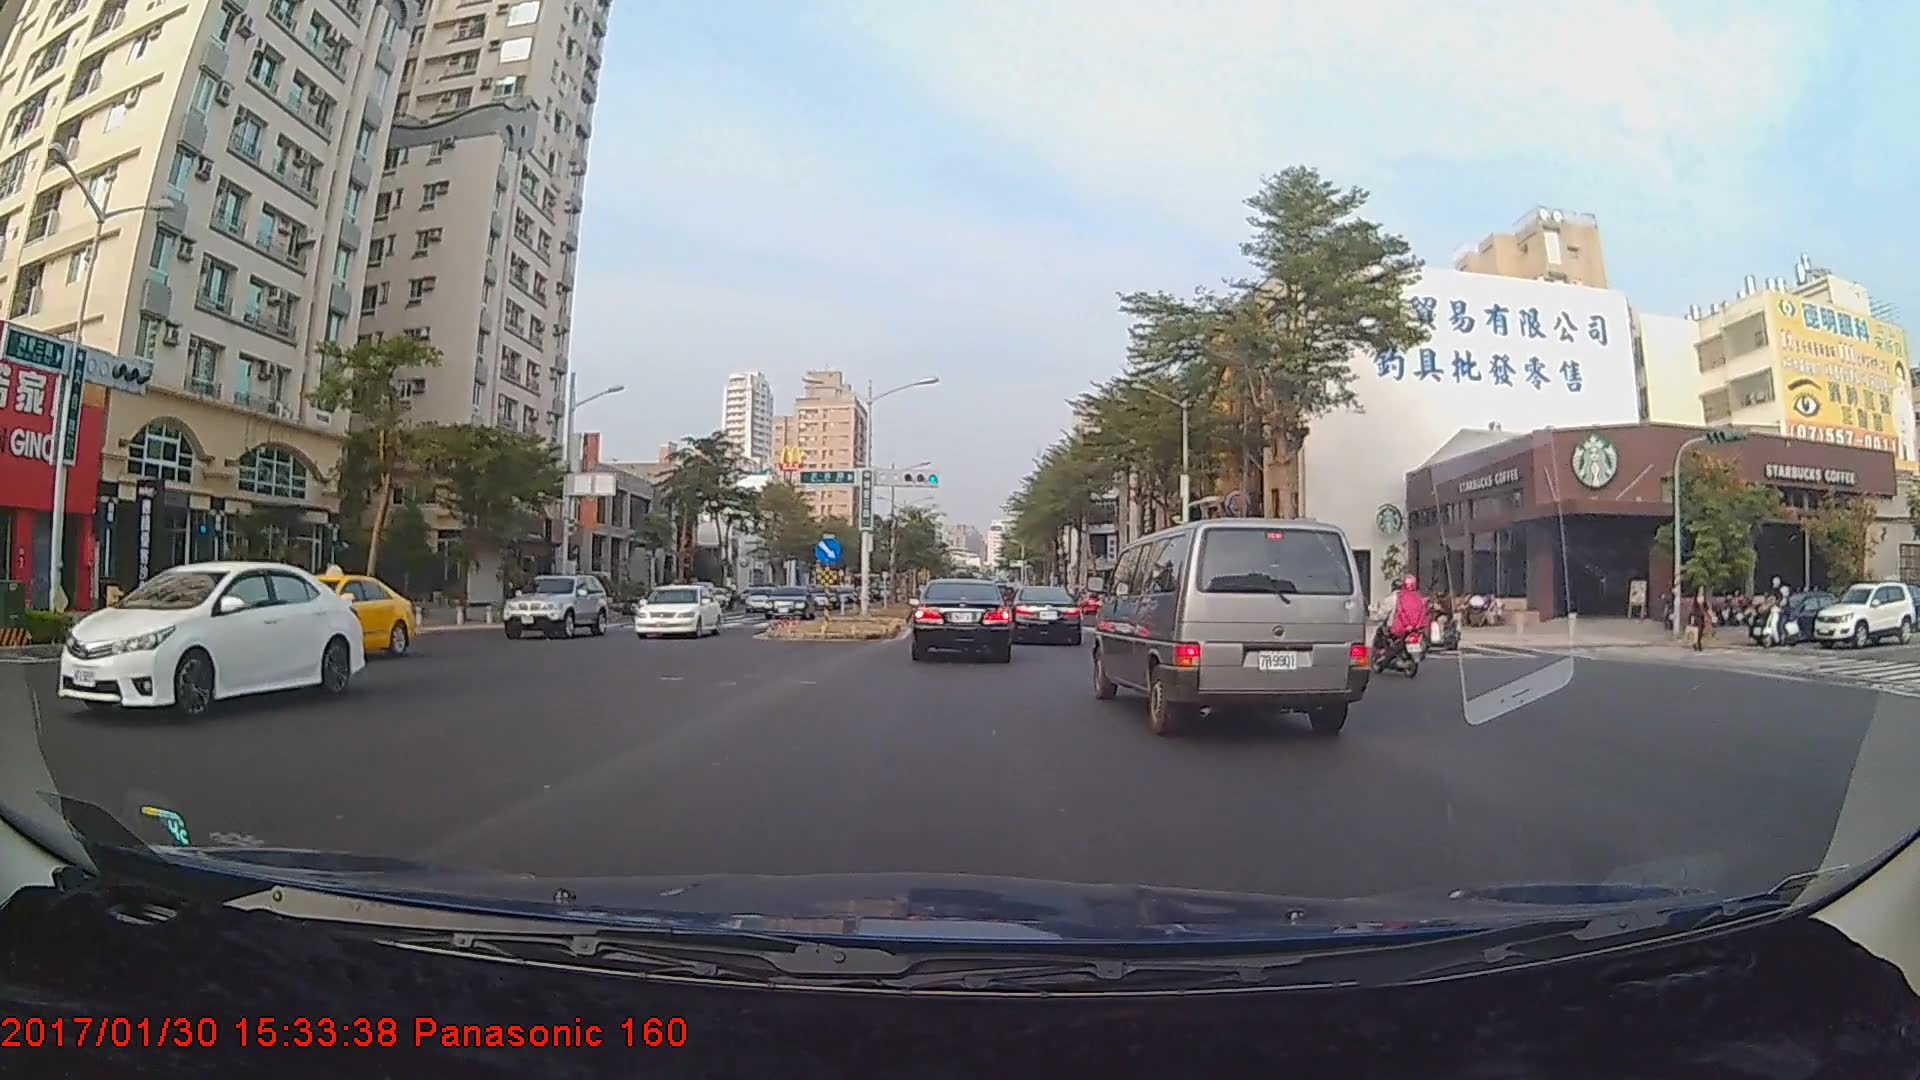pedestrian: (1692, 585, 1712, 652)
rider: (1368, 572, 1439, 676), (1758, 582, 1806, 651)
vehicle: (1100, 514, 1359, 734), (53, 560, 366, 721), (238, 574, 414, 657), (910, 578, 1013, 662), (499, 568, 603, 637), (1811, 584, 1919, 644), (631, 584, 722, 640), (1011, 584, 1081, 645), (760, 585, 817, 619)
